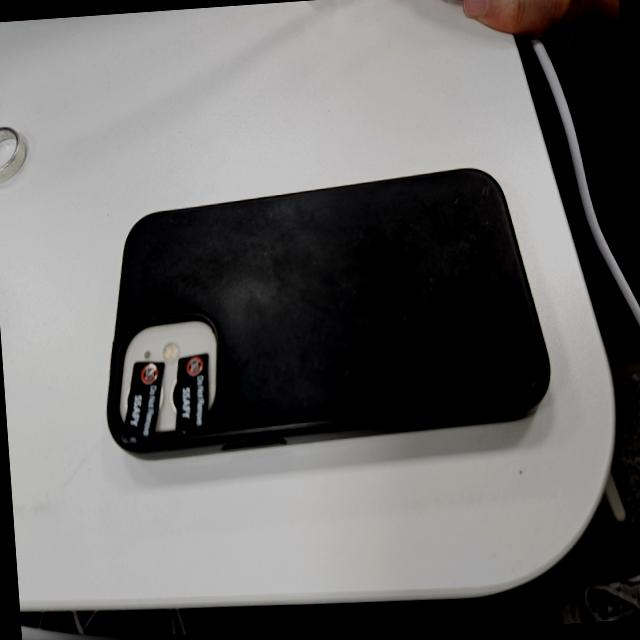phone: (88, 160, 556, 458)
sticker: (120, 354, 166, 447), (174, 352, 212, 434)
